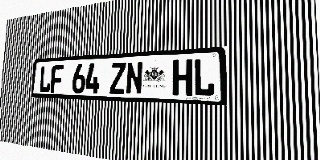4: (85, 63, 100, 94)
6: (72, 64, 86, 93)
F: (50, 65, 64, 93)
H: (172, 59, 193, 96)
L: (193, 58, 215, 97), (39, 65, 52, 93)
N: (126, 61, 143, 95)
Z: (110, 62, 126, 94)
